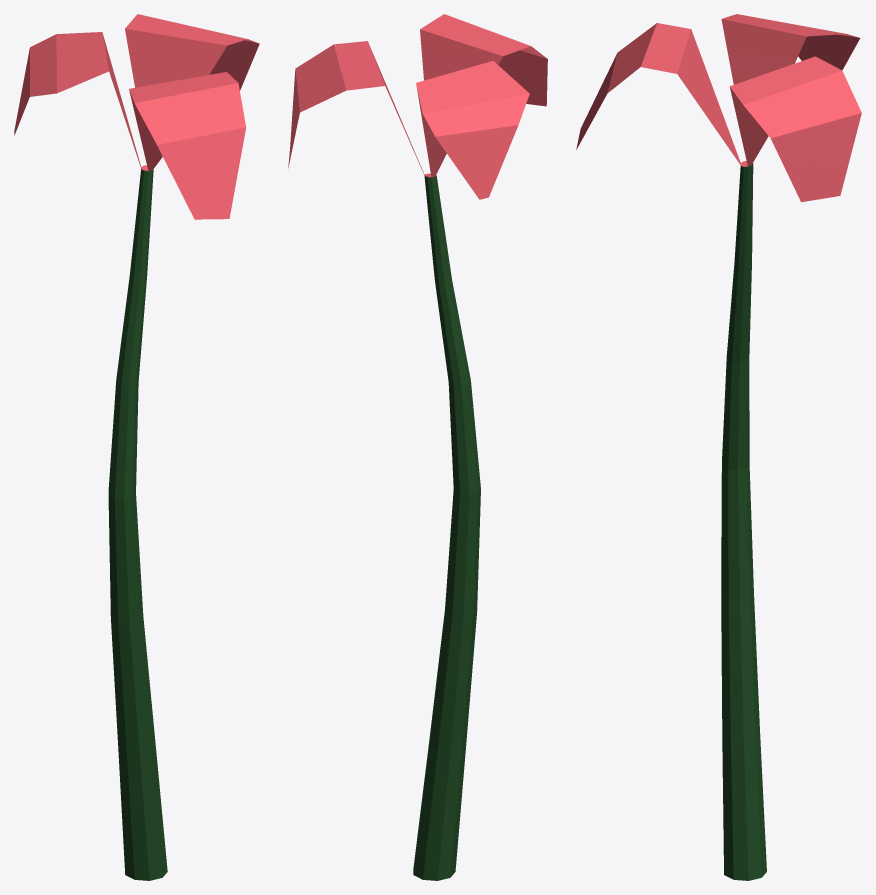
The model's file is Plant_3c.fbx.
3 views of the same model, side by side, from view 1: azimuth 30°, elevation 25°; view 2: azimuth 150°, elevation 25°; view 3: azimuth 270°, elevation 25° (orthographic).
Visible parts, largest first — view 1: Circle; view 2: Circle; view 3: Circle.
Boxes of the visible parts, <box> form: Circle: <box>14,14,259,880</box>; Circle: <box>288,14,547,880</box>; Circle: <box>576,14,861,880</box>.
Size of the model in its own units: 22.62 by 77.99 by 24.37.
